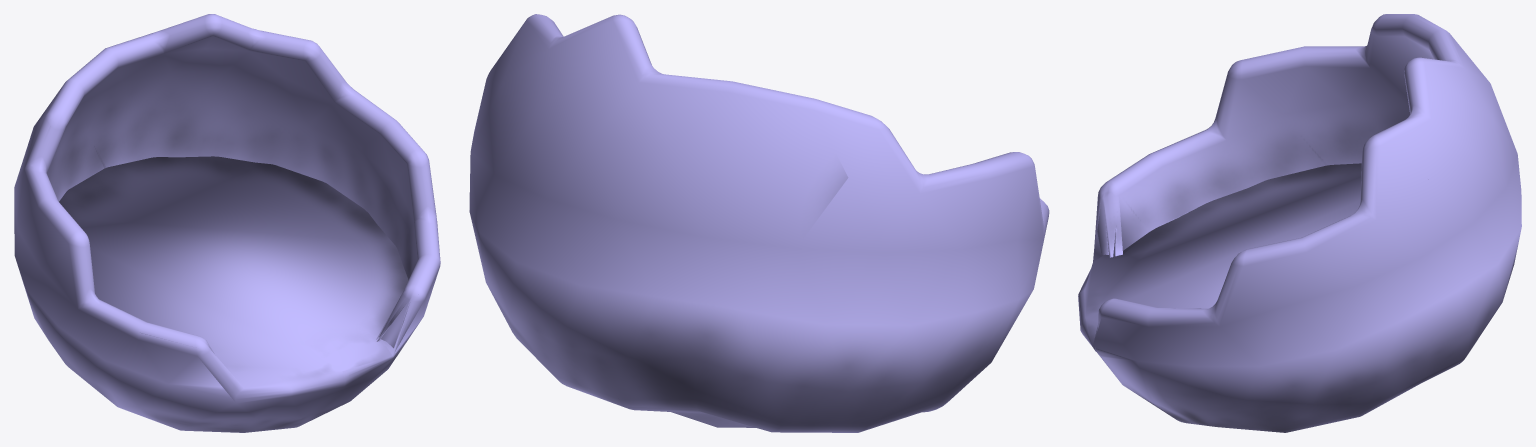
File: Stuhl.glb
3 renders of one model, left to right at view 1: azimuth 30°, elevation 25°; view 2: azimuth 150°, elevation 25°; view 3: azimuth 270°, elevation 25°, orthographic. The views are drawn at different scales.
Parts seen in each view (by area): view 1: Icosphere; view 2: Icosphere; view 3: Icosphere.
Boxes of the visible parts, bbox=[...] form: Icosphere: bbox=[14, 14, 440, 432]; Icosphere: bbox=[469, 14, 1049, 432]; Icosphere: bbox=[1078, 14, 1521, 432].
Bounding box in the file's own units: 14.03 × 11.45 × 12.89.
1 material, 1 textured.
